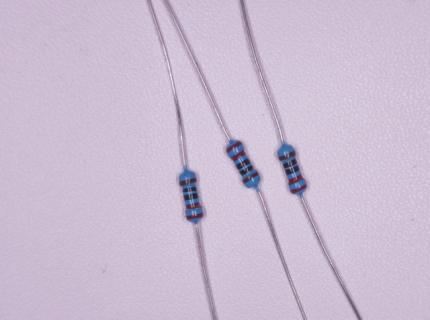Red band: (225, 141, 242, 153), (287, 175, 304, 186), (231, 150, 246, 162), (291, 184, 308, 194), (185, 202, 201, 210), (186, 213, 204, 220)
